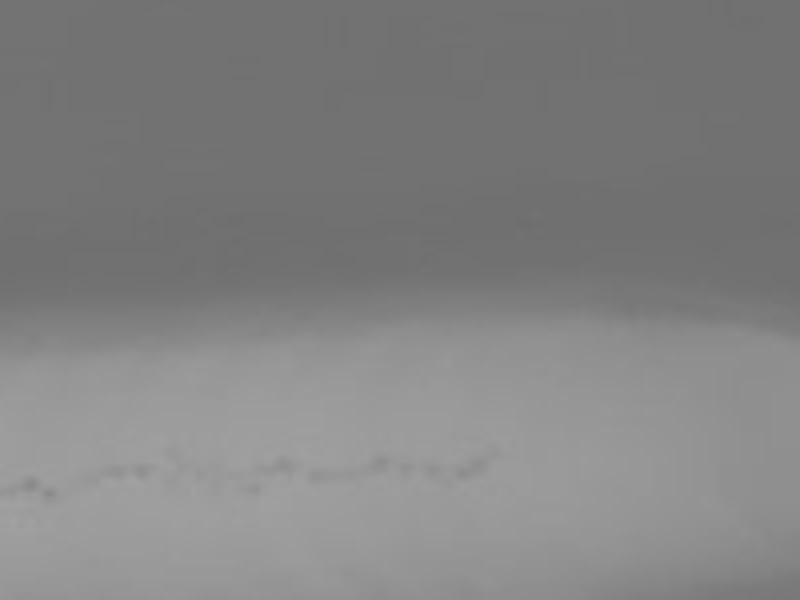defect: (253, 452, 295, 479), (92, 462, 129, 482), (392, 458, 416, 482), (367, 453, 389, 476), (308, 467, 333, 487), (16, 473, 43, 491), (471, 459, 495, 479), (163, 440, 182, 465), (453, 466, 474, 487), (190, 466, 213, 485), (242, 483, 268, 499), (482, 442, 504, 459), (342, 467, 361, 486), (136, 463, 154, 483), (426, 458, 443, 479), (1, 482, 16, 502), (45, 486, 60, 504)
